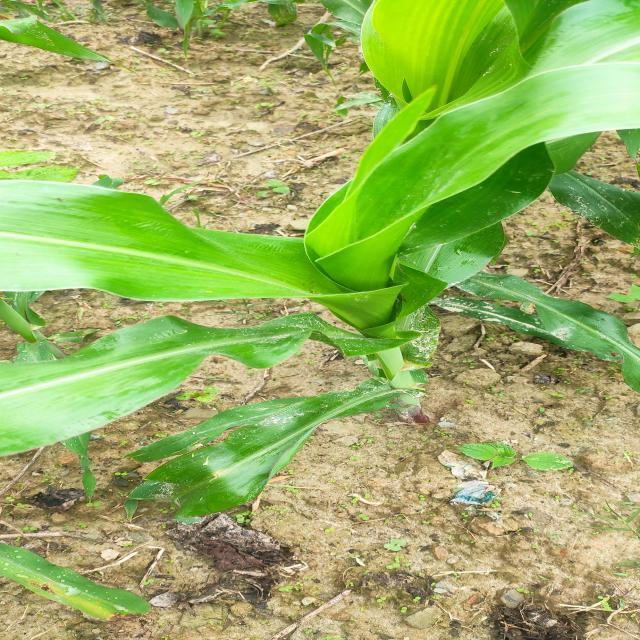maize: (0, 3, 614, 534)
weed: (435, 435, 604, 476), (243, 176, 319, 198)
